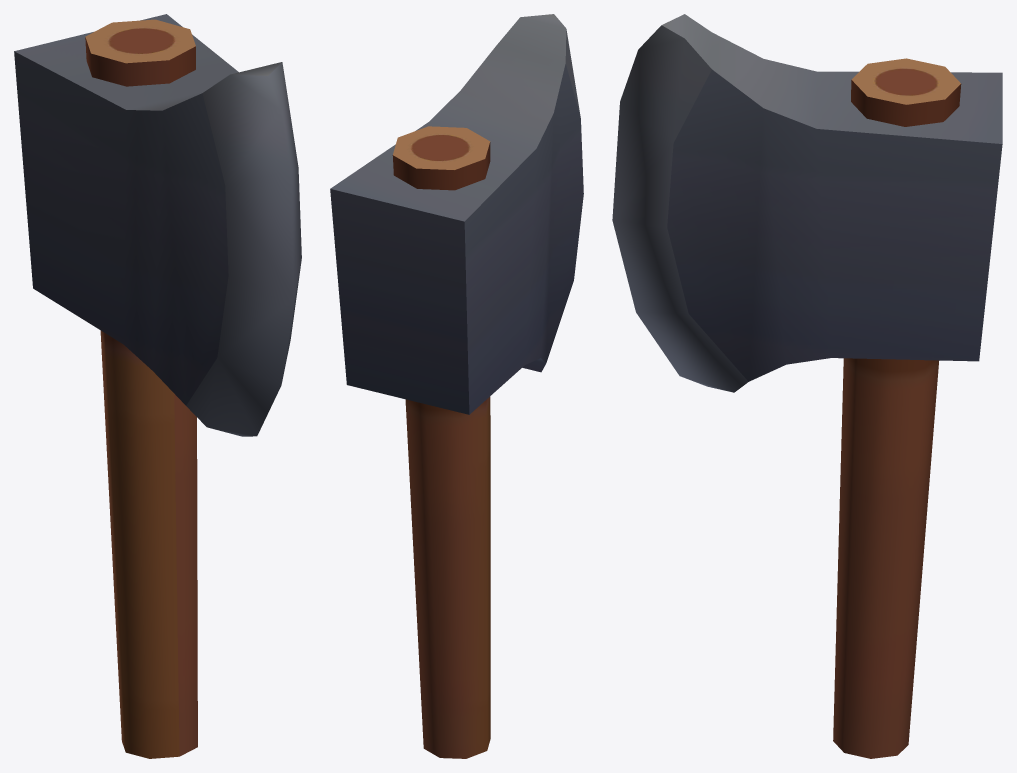
File: Axe1.fbx
The picture shows the model from 3 angles, left to right: view 1: azimuth 30°, elevation 25°; view 2: azimuth 150°, elevation 25°; view 3: azimuth 270°, elevation 25°; orthographic projection. The views are drawn at different scales.
Visible parts, largest first — view 1: Axe1; view 2: Axe1; view 3: Axe1.
Boxes of the visible parts, left/top/right/bottom form: Axe1: left=14, top=14, right=301, bottom=758; Axe1: left=330, top=14, right=583, bottom=758; Axe1: left=612, top=14, right=1002, bottom=758.
Size of the model in its own units: 0.1316 by 0.618 by 0.3037.
Materials: 1 (1 with a texture image).
